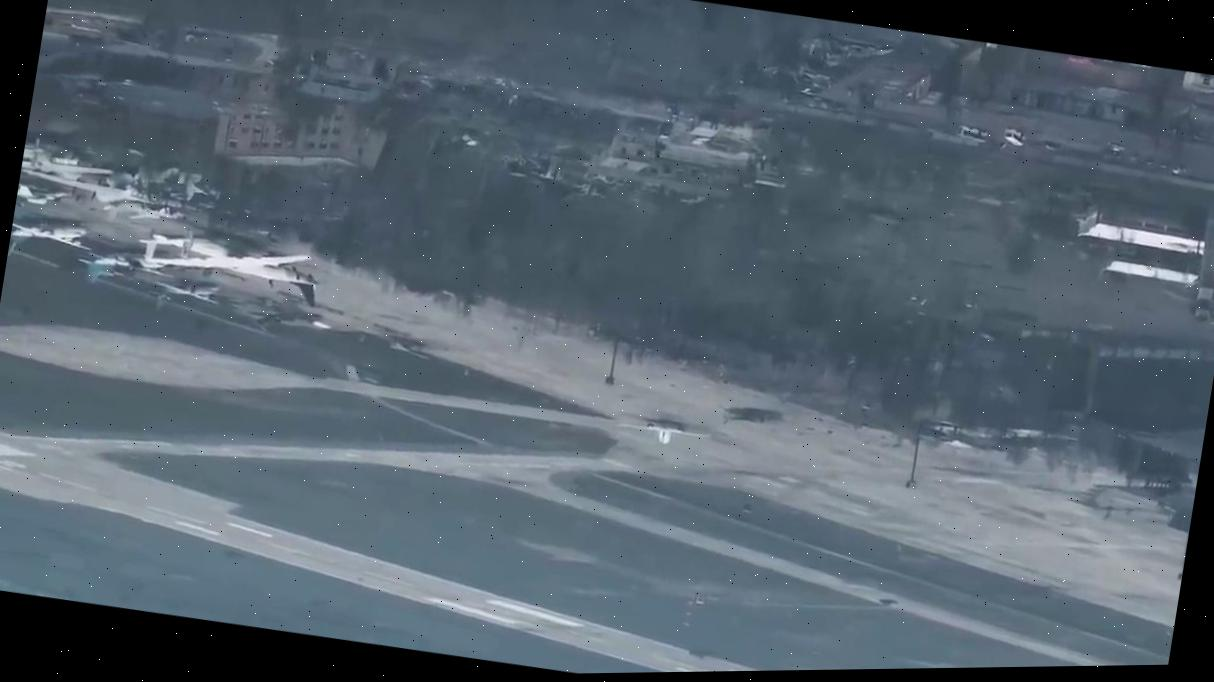plane: (138, 218, 312, 287), (17, 153, 184, 214), (75, 240, 173, 293), (7, 210, 96, 263), (613, 412, 710, 451), (147, 272, 221, 316)
